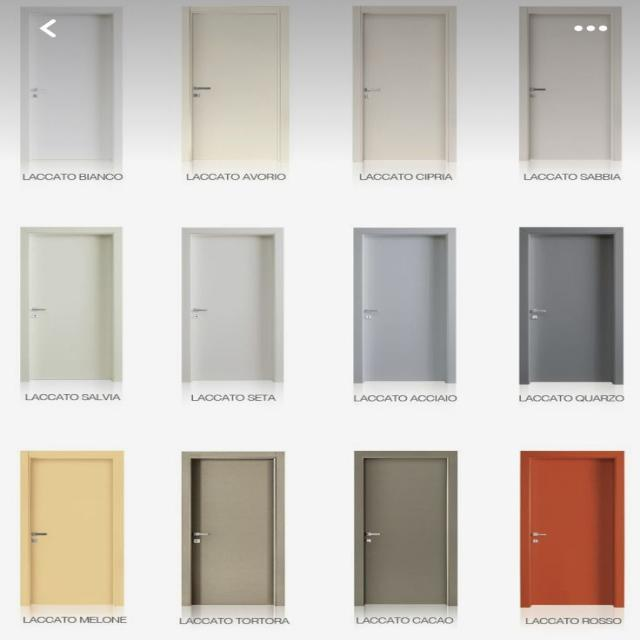door: (20, 9, 126, 171), (520, 5, 625, 160), (520, 450, 623, 608), (183, 230, 284, 388), (20, 229, 124, 381), (21, 450, 122, 606), (519, 228, 620, 384), (358, 229, 457, 383), (356, 452, 454, 605), (355, 8, 451, 158), (190, 7, 282, 162), (186, 454, 280, 605)
